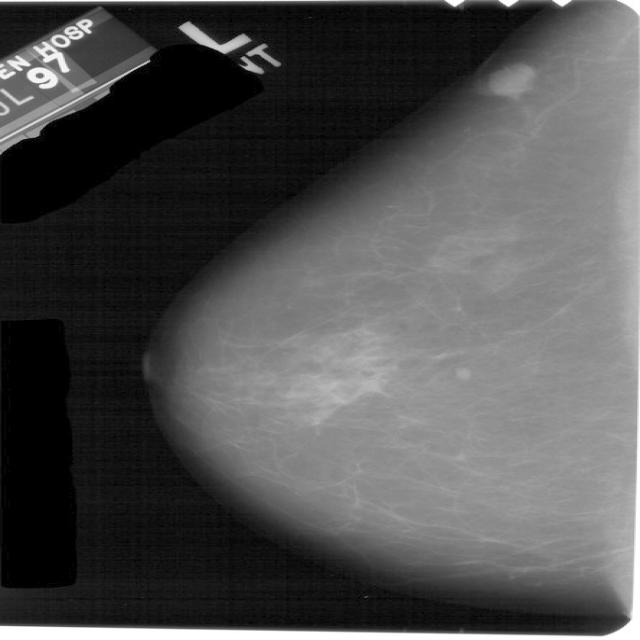tumour: (487, 62, 535, 97)
